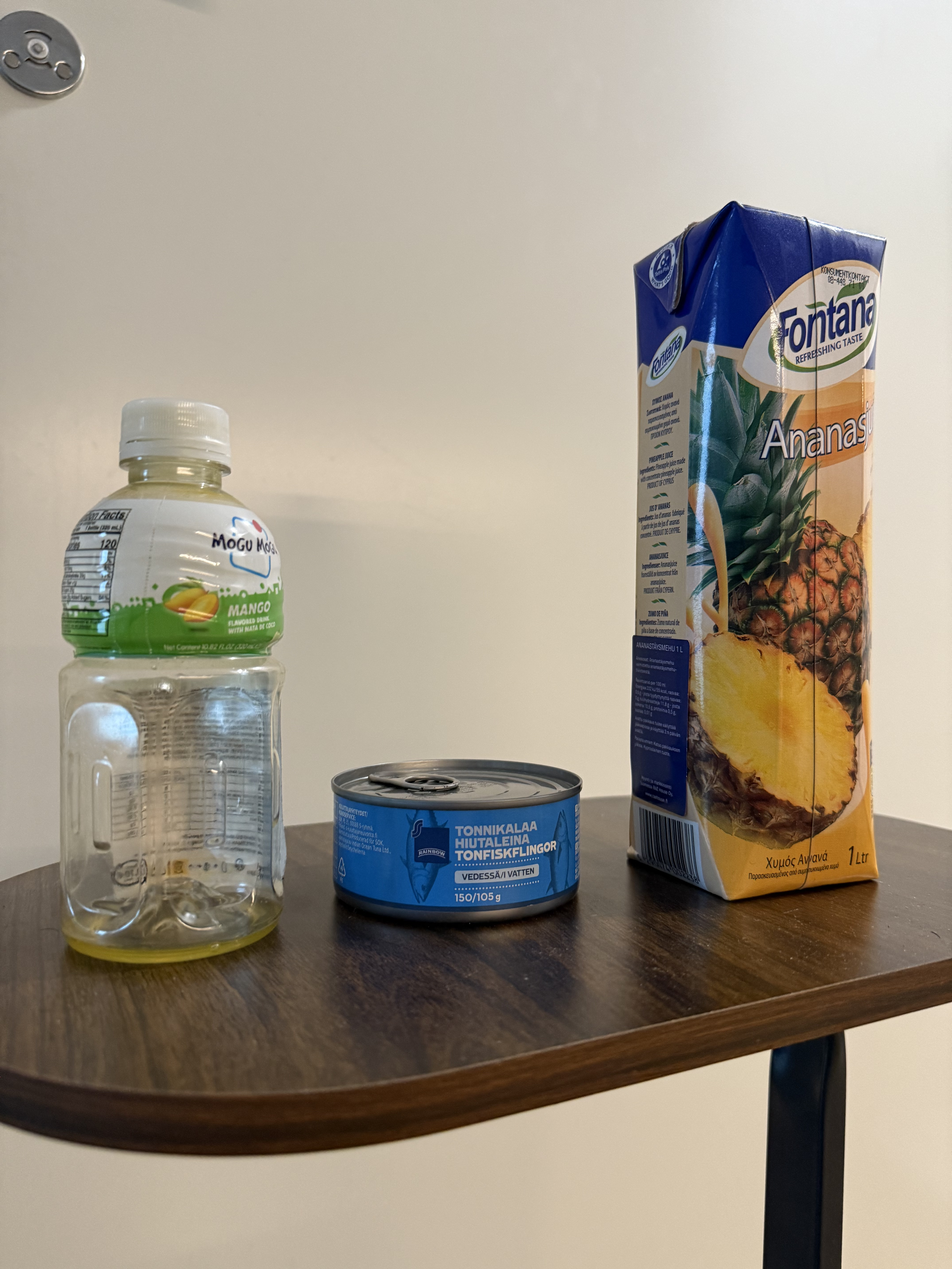Dryckeskartong: (632, 219, 879, 891)
Konservburk: (335, 770, 585, 913)
Pantburk: (54, 400, 276, 970)
